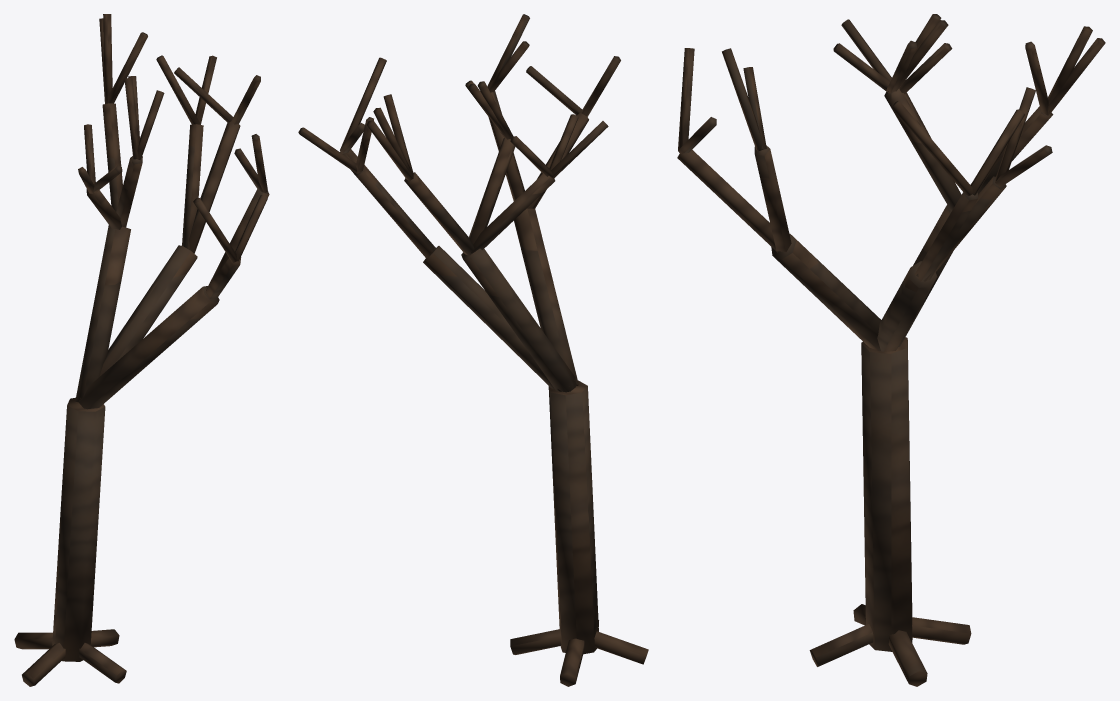
Rendered from NT01_dead_tree_v3.glb.
3 renders of one model, left to right at view 1: azimuth 30°, elevation 25°; view 2: azimuth 150°, elevation 25°; view 3: azimuth 270°, elevation 25°, orthographic. The views are drawn at different scales.
Parts seen in each view (by area): view 1: NT01_dead_tree_v3; view 2: NT01_dead_tree_v3; view 3: NT01_dead_tree_v3.
Boxes of the visible parts, x1,y1,x2,y2 form: NT01_dead_tree_v3: (14, 14, 269, 686); NT01_dead_tree_v3: (298, 14, 648, 686); NT01_dead_tree_v3: (677, 14, 1105, 686).
Bounding box in the file's own units: 2.95 × 6 × 3.34.
Materials: 1 (1 with a texture image).
